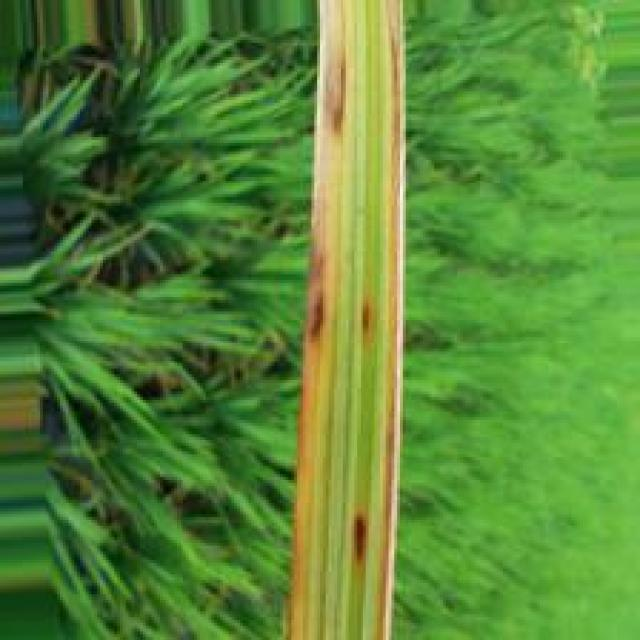Brown_Spot: (324, 51, 347, 140), (312, 291, 329, 355), (353, 516, 370, 570), (360, 307, 369, 349)
